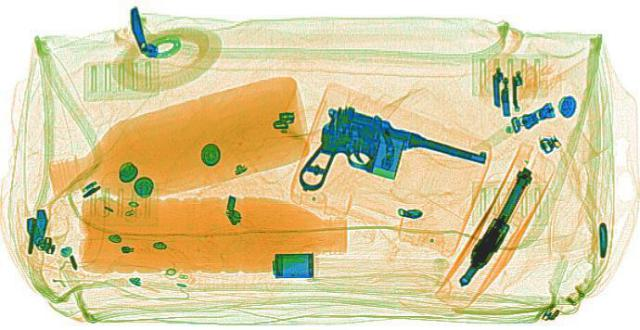Gun: (240, 100, 498, 218), (437, 165, 545, 286)
